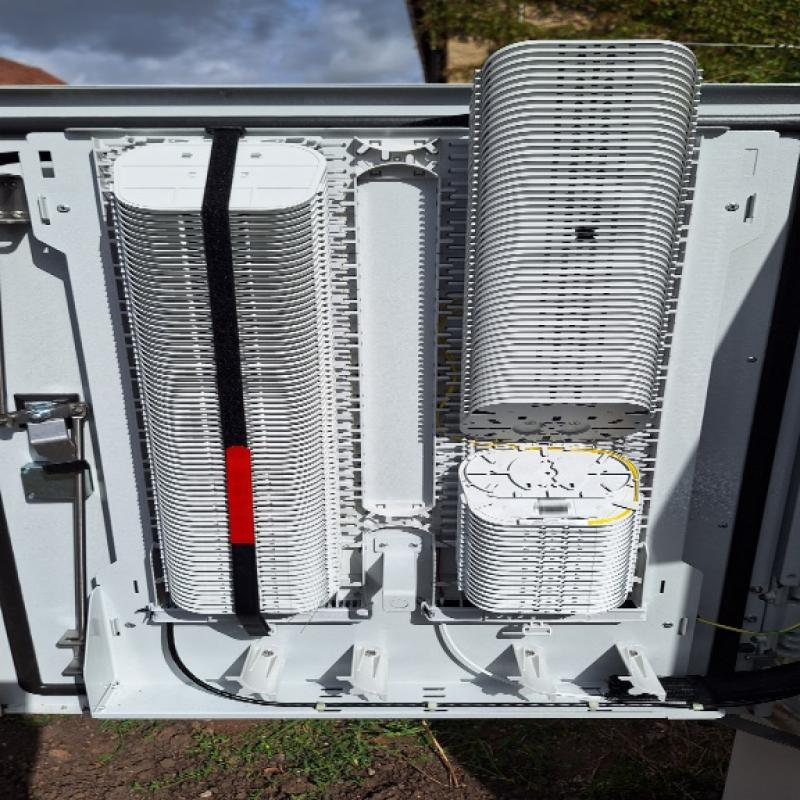NT-Gehause: (0, 82, 800, 800)
Spleiskassetten: (441, 30, 720, 623), (95, 128, 371, 631)
